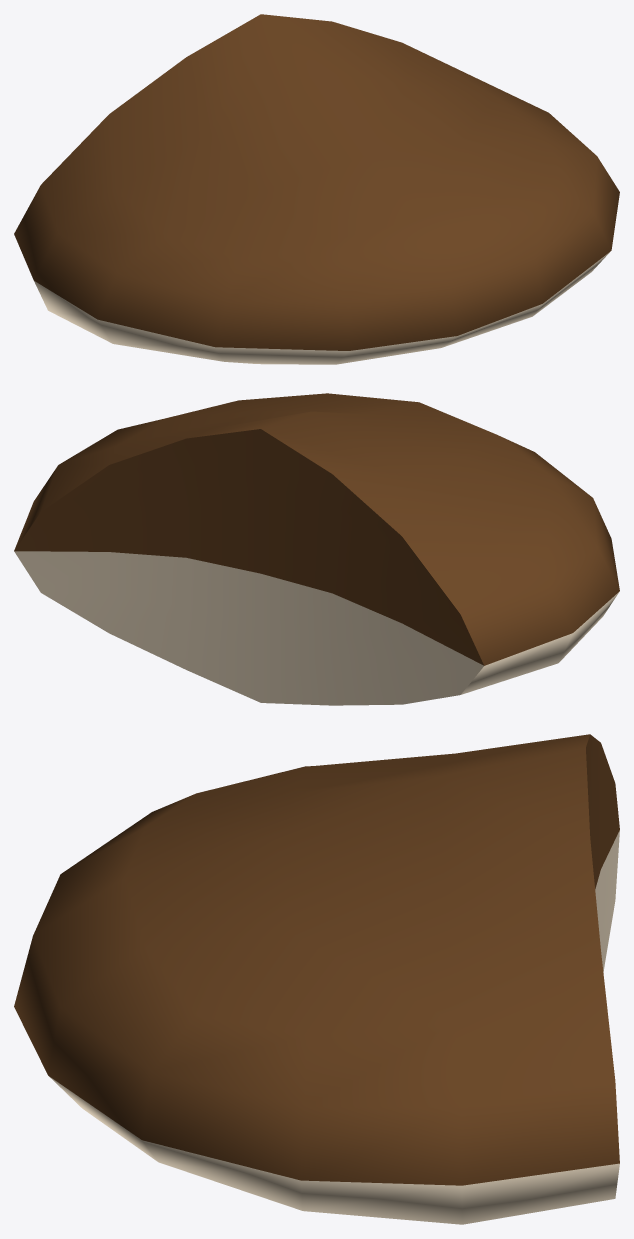
Rendered from Artists_Conk_Basic.glb.
3 views of the same model, one above another, from view 1: azimuth 30°, elevation 25°; view 2: azimuth 150°, elevation 25°; view 3: azimuth 270°, elevation 25° (orthographic). The views are drawn at different scales.
Parts seen in each view (by area): view 1: Artists_Conk_Basic; view 2: Artists_Conk_Basic; view 3: Artists_Conk_Basic.
Boxes of the visible parts, box(x1,y1,x2,y2) form: Artists_Conk_Basic: box(14, 14, 619, 364); Artists_Conk_Basic: box(14, 393, 619, 705); Artists_Conk_Basic: box(14, 734, 619, 1224).
Size of the model in its own units: 0.5564 by 0.2701 by 0.3722.
Materials: 1 (1 with a texture image).
